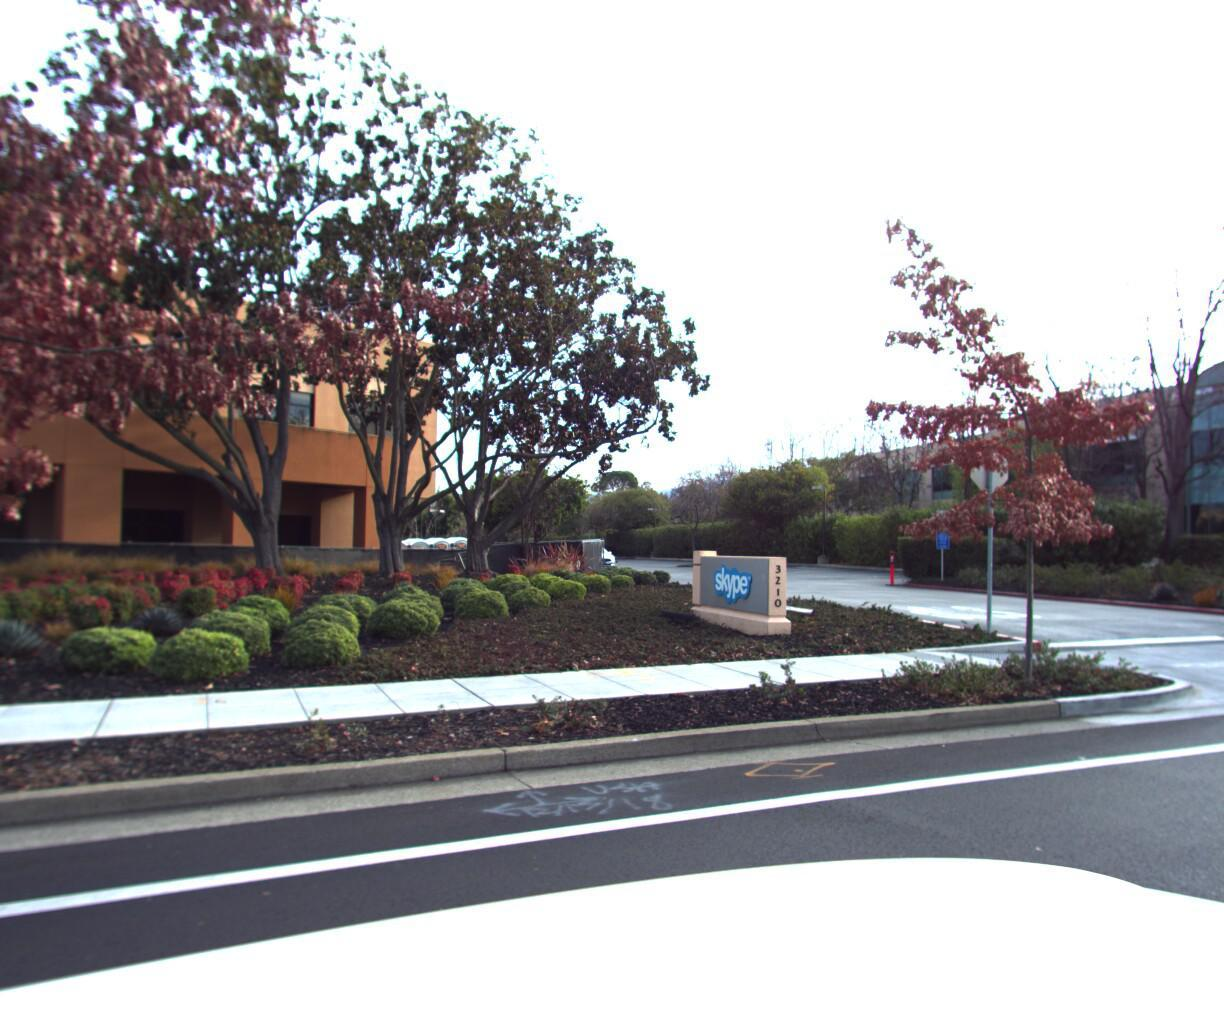car: (579, 533, 623, 561)
